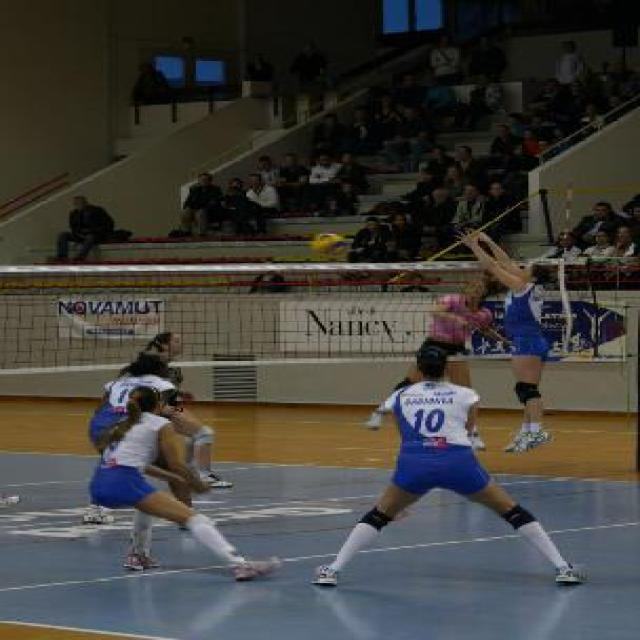volleyball: (311, 232, 348, 258)
